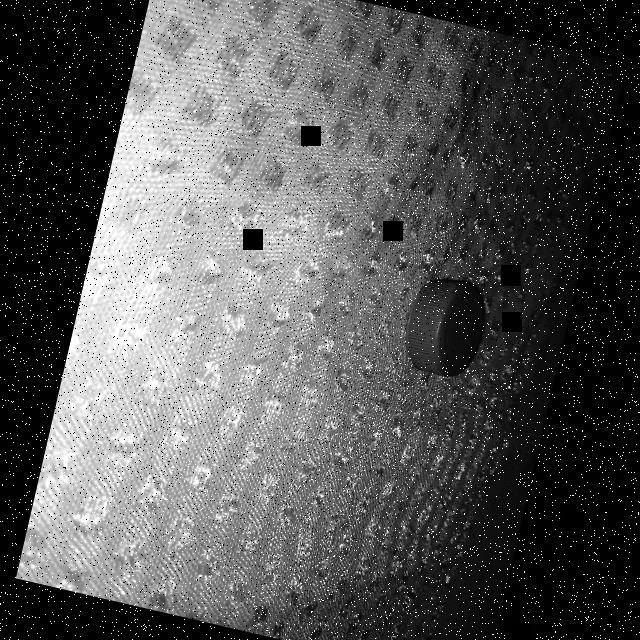plastic_bottle_cap: (394, 269, 494, 383)
